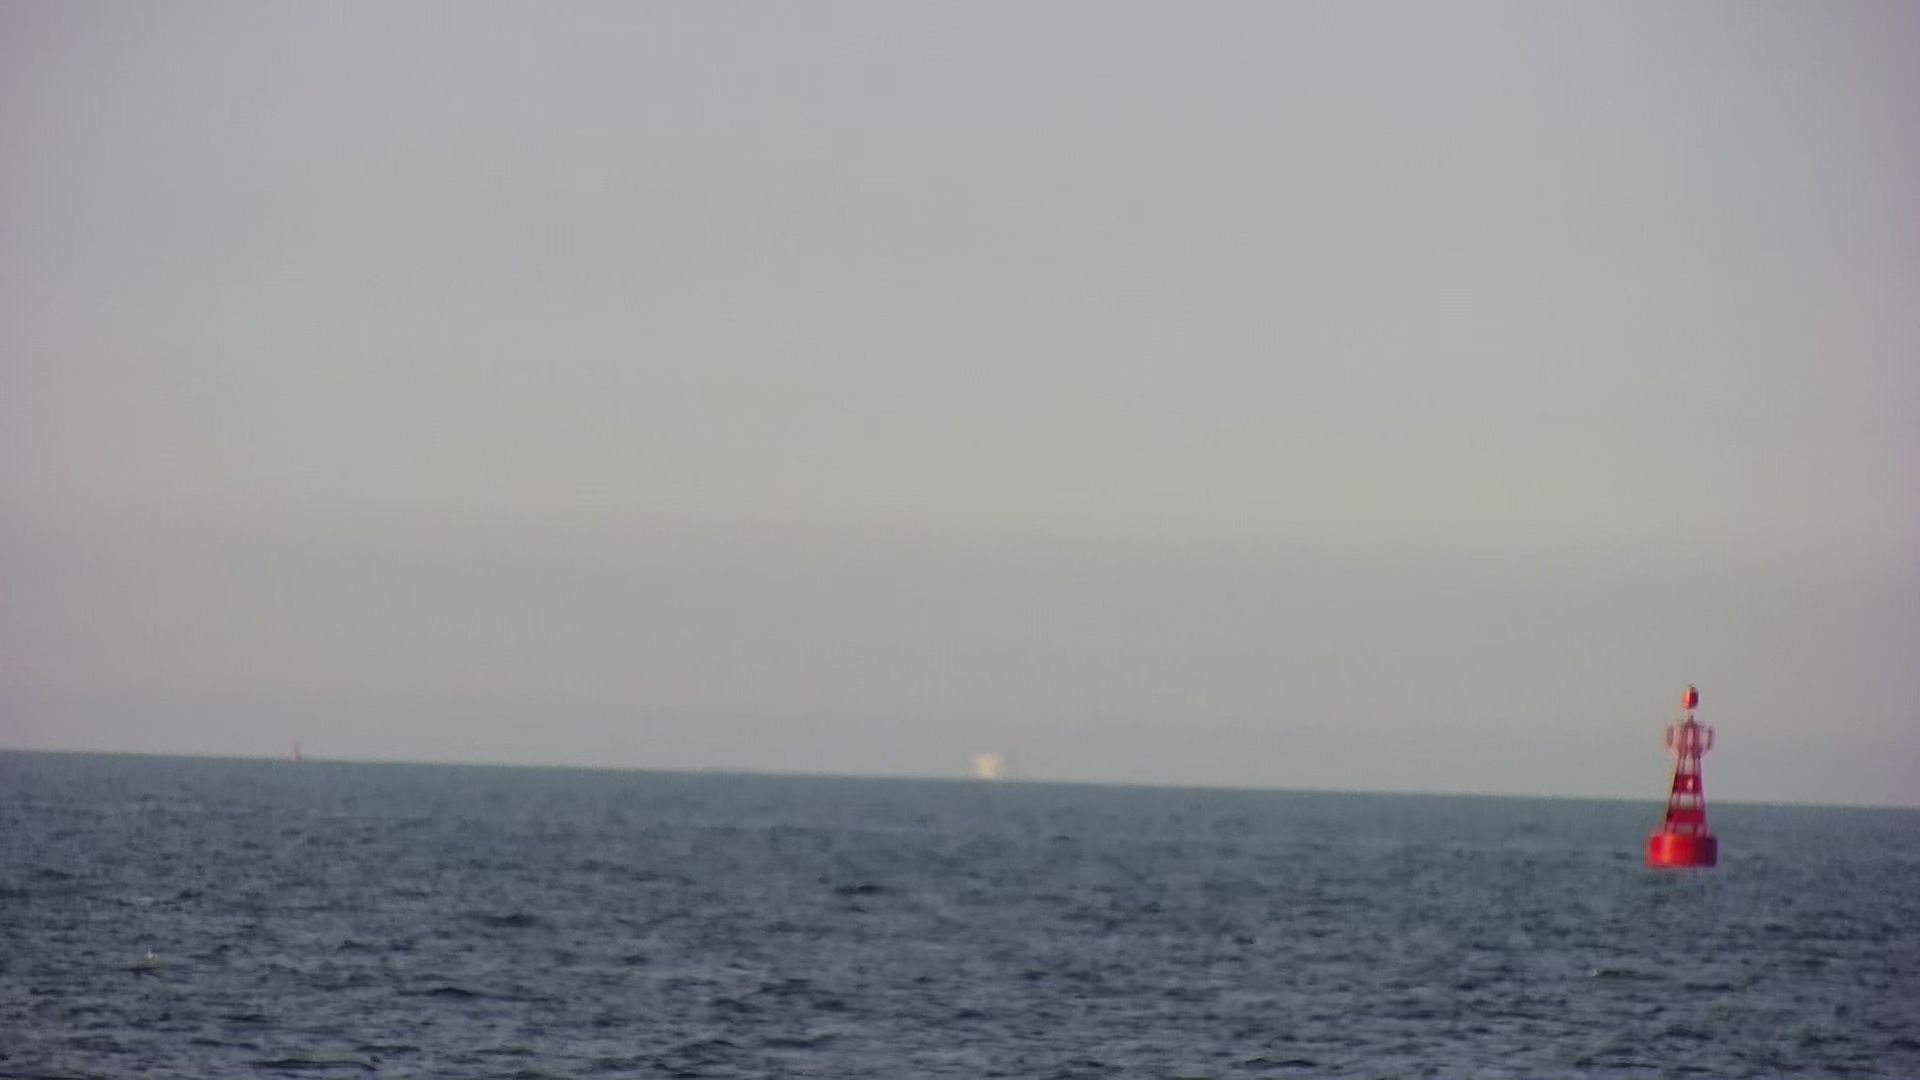buoy: (1648, 671, 1725, 876)
